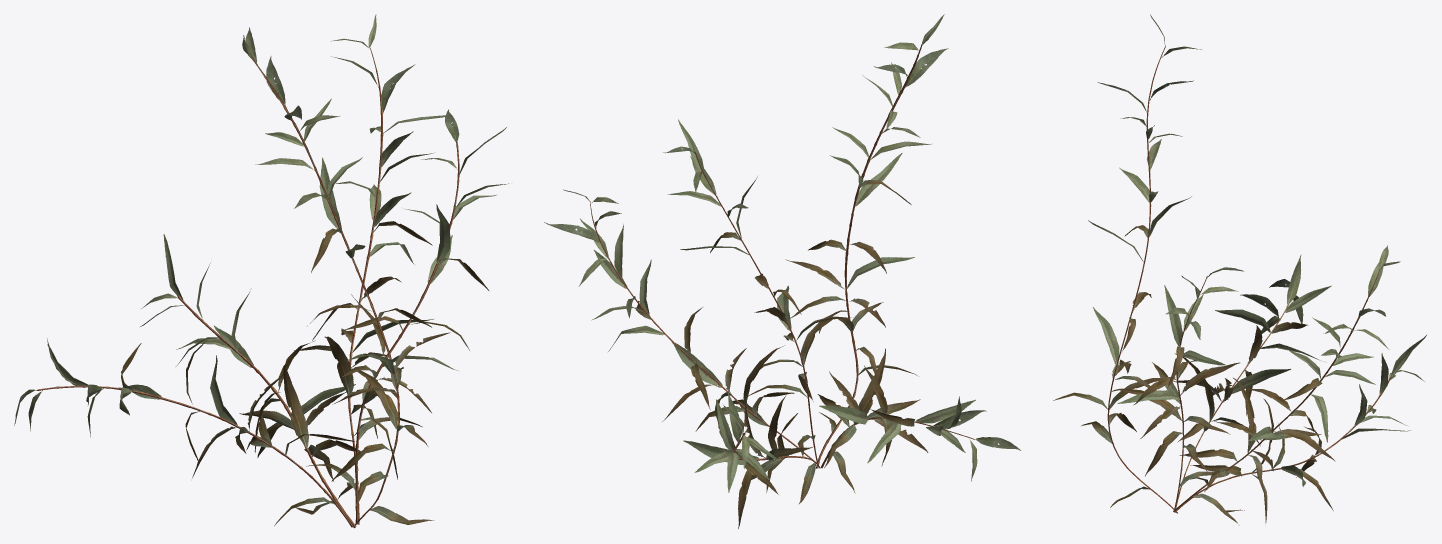
File: shrub_02_a_LOD1.glb
3 views of the same model, side by side, from view 1: azimuth 30°, elevation 25°; view 2: azimuth 150°, elevation 25°; view 3: azimuth 270°, elevation 25° (orthographic). The views are drawn at different scales.
Visible parts, largest first — view 1: shrub_02_a_LOD1__lod0; view 2: shrub_02_a_LOD1__lod0; view 3: shrub_02_a_LOD1__lod0.
Boxes of the visible parts, <box> form: shrub_02_a_LOD1__lod0: <box>14,14,508,528</box>; shrub_02_a_LOD1__lod0: <box>544,14,1020,528</box>; shrub_02_a_LOD1__lod0: <box>1053,14,1426,525</box>.
Size of what is drawn, in the model's own units: 1.27 by 1.39 by 1.05.
Materials: 1 (1 with a texture image).
